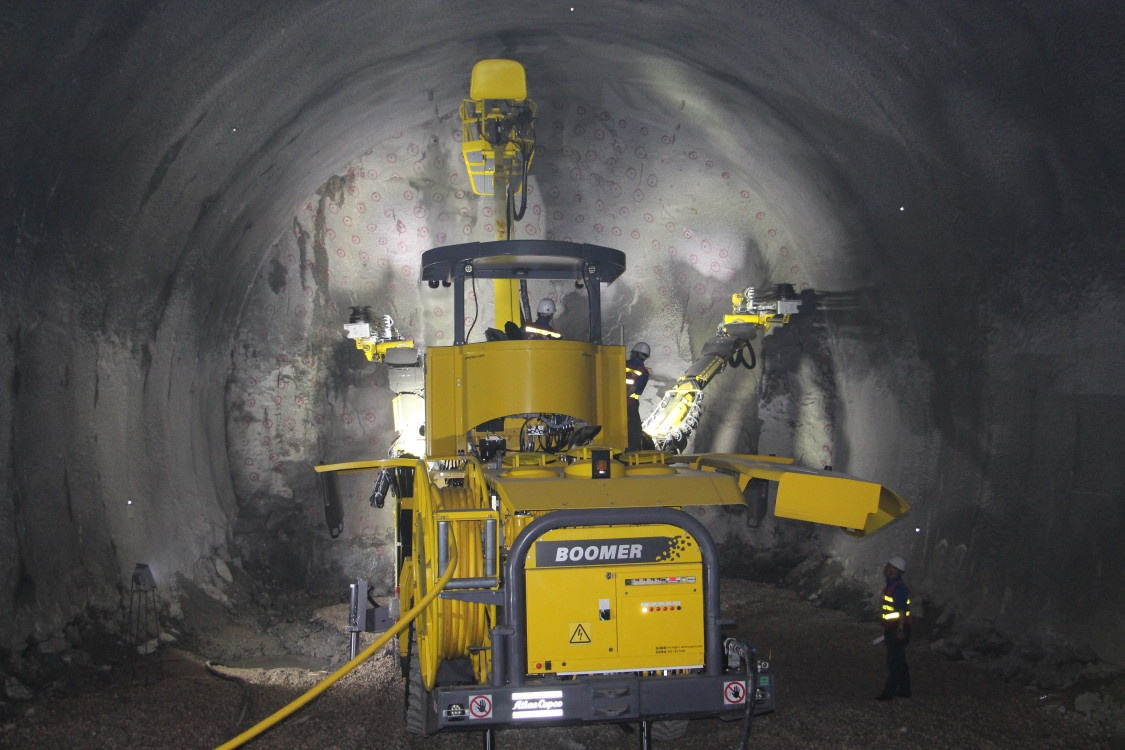white: (882, 556, 907, 580), (536, 296, 555, 322), (629, 340, 651, 362)
